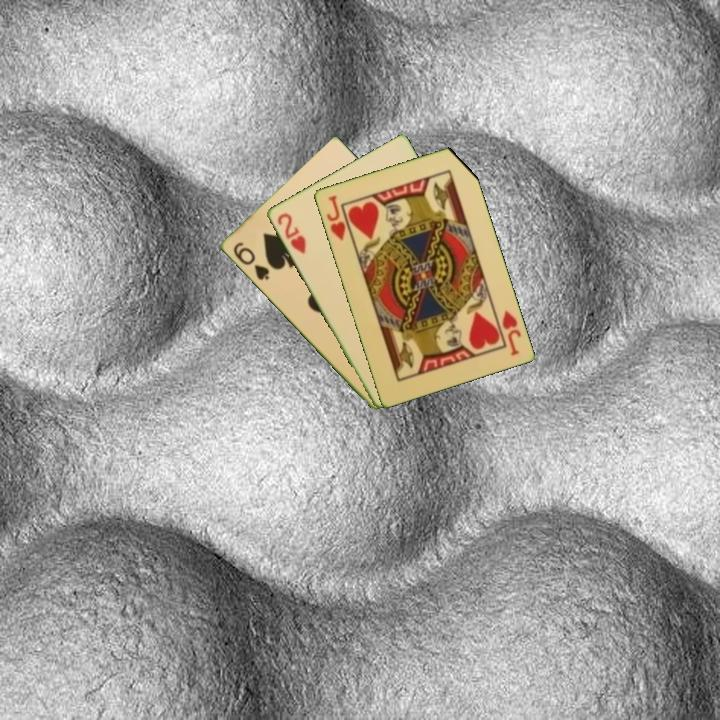2h: (273, 209, 309, 257)
6s: (229, 238, 272, 283)
Jh: (323, 191, 355, 244), (498, 307, 524, 358)
